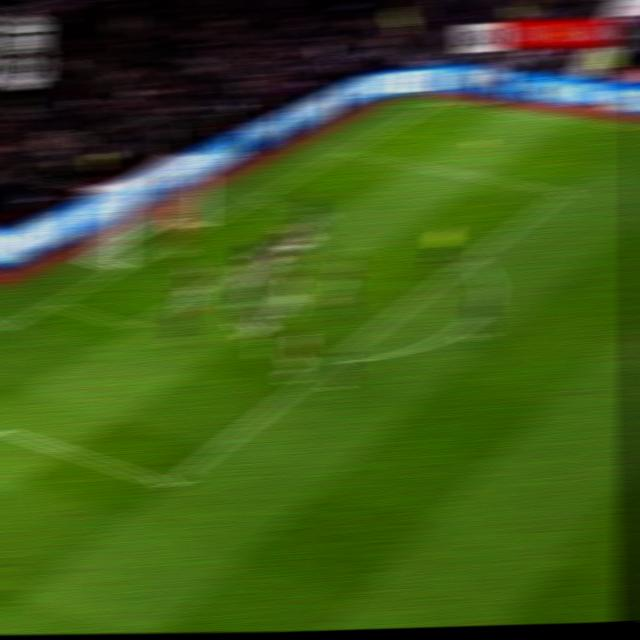bigarea_bottom_inner: (150, 467, 188, 500)
bigarea_top_inner: (550, 182, 576, 202)
bigarea_top_outter: (335, 146, 356, 156)
bottom_arc_area_intersection: (319, 352, 343, 374)
corner: (427, 97, 451, 107)
smallarea_bottom_inner: (119, 312, 149, 338)
smallarea_bottom_outter: (40, 292, 67, 312)
smallarea_top_inner: (311, 207, 334, 223)
smallarea_top_outter: (244, 190, 269, 209)
top_arc_area_intersection: (460, 248, 485, 269)
